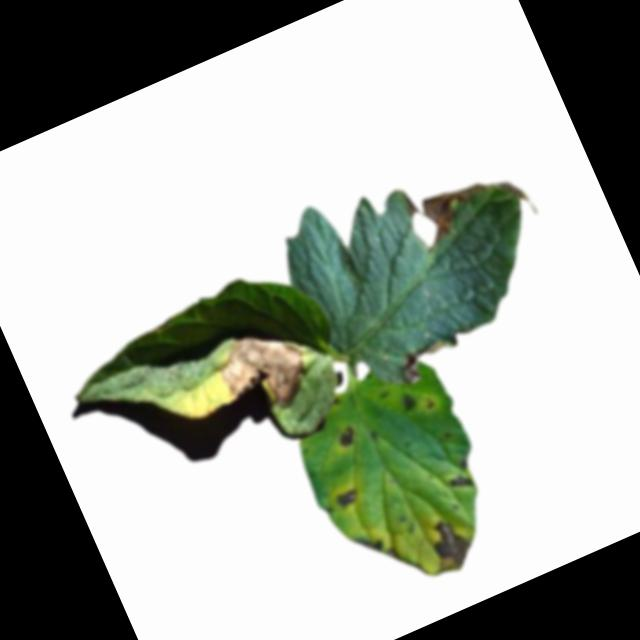Early_blight: (397, 143, 542, 264), (207, 314, 322, 430), (415, 512, 481, 585), (389, 332, 452, 385), (445, 470, 477, 498), (355, 532, 385, 558), (332, 487, 361, 512), (335, 423, 359, 449), (399, 392, 420, 417)
